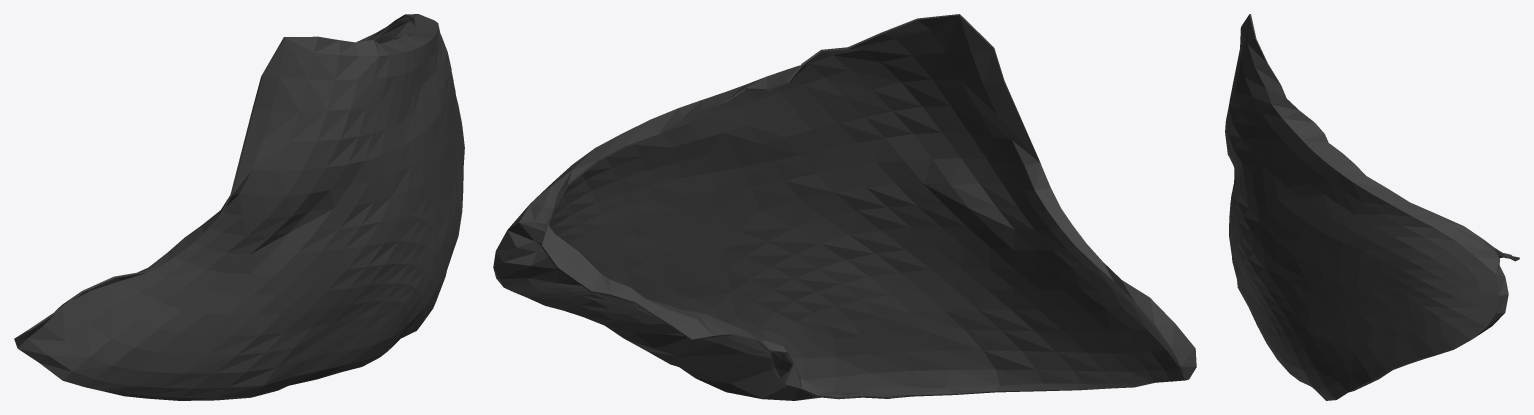
Rendered from Lung_R_middle_lobe.glb.
The picture shows the model from 3 angles, left to right: view 1: azimuth 30°, elevation 25°; view 2: azimuth 150°, elevation 25°; view 3: azimuth 270°, elevation 25°; orthographic projection. The views are drawn at different scales.
Parts seen in each view (by area): view 1: Lung_R_middle_lobe; view 2: Lung_R_middle_lobe; view 3: Lung_R_middle_lobe.
Part boxes in pixels (x1,y1,x2,y2): Lung_R_middle_lobe: (14,14,464,400); Lung_R_middle_lobe: (493,14,1196,400); Lung_R_middle_lobe: (1225,14,1519,400).
Size of the model in its own units: 0.83 by 0.5383 by 0.4549.
1 material, 1 textured.
